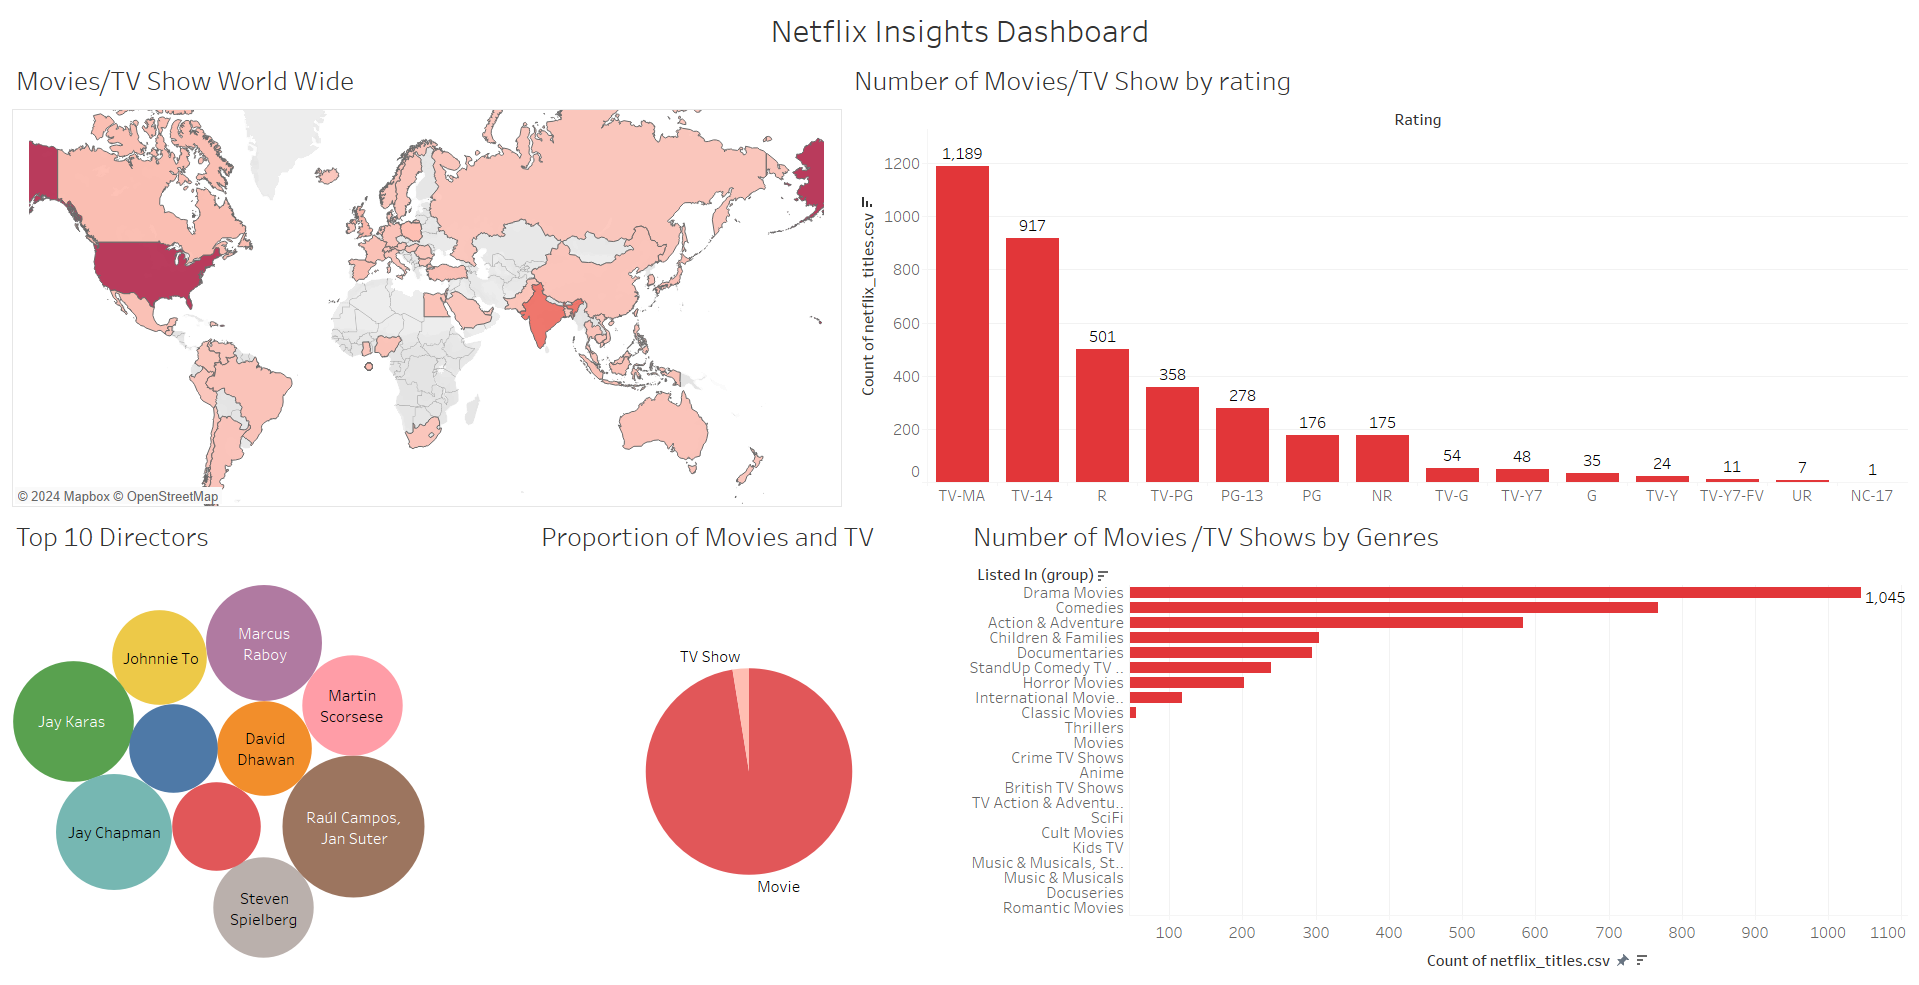

Layout of this report page (visuals, bound fields, positions):
{"tool":"tableau","page":{"name":"Netflix Insights Dashboard","canvas":[1000,1000],"units":"permille","ordinal":0},"visuals":[{"type":"title","box":[4.2,8.2,991.7,51]},{"type":"worksheet","title":"Movies/TV Show World Wide","mark":"Multipolygon","box":[4.2,59.2,436.6,458.7]},{"type":"worksheet","title":"Number of Movies/TV Show by rating","mark":"Automatic","rows":["netflix_titles.csv_2BF3735BC6DA4879BEF68EA093AC61EB"],"cols":["rating"],"box":[440.7,59.2,555.1,458.7]},{"type":"worksheet","title":"Top 10 Directors","mark":"Circle","box":[4.2,517.9,273.4,474]},{"type":"worksheet","title":"Proportion of Movies and TV Shows","mark":"Pie","box":[277.6,517.9,225,474]},{"type":"worksheet","title":"Number of Movies /TV Shows by Genres","mark":"Automatic","cols":["netflix_titles.csv_2BF3735BC6DA4879BEF68EA093AC61EB"],"box":[502.6,517.9,493.2,474]}]}

Visuals, with their boxes on the dashboard's canvas, which has no fixed pixel size, in thousandths of its width and height (x1, y1, x2, y2). These are canvas units, not pixel positions in the 1919x985 screenshot, which may show the page scaled, cropped or inside an application window:
title: <bbox>4, 8, 996, 59</bbox>
"Movies/TV Show World Wide" worksheet (Multipolygon marks): <bbox>4, 59, 441, 518</bbox>
"Number of Movies/TV Show by rating" worksheet: <bbox>441, 59, 996, 518</bbox>
"Top 10 Directors" worksheet (Circle marks): <bbox>4, 518, 278, 992</bbox>
"Proportion of Movies and TV Shows" worksheet (Pie marks): <bbox>278, 518, 503, 992</bbox>
"Number of Movies /TV Shows by Genres" worksheet: <bbox>503, 518, 996, 992</bbox>
